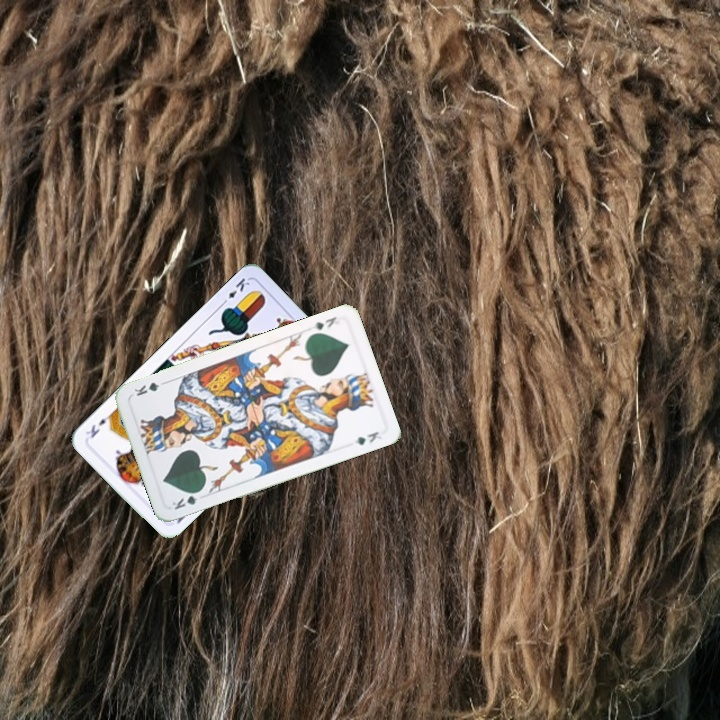EK: (218, 273, 252, 308)
GK: (168, 486, 205, 512), (308, 313, 339, 333)
